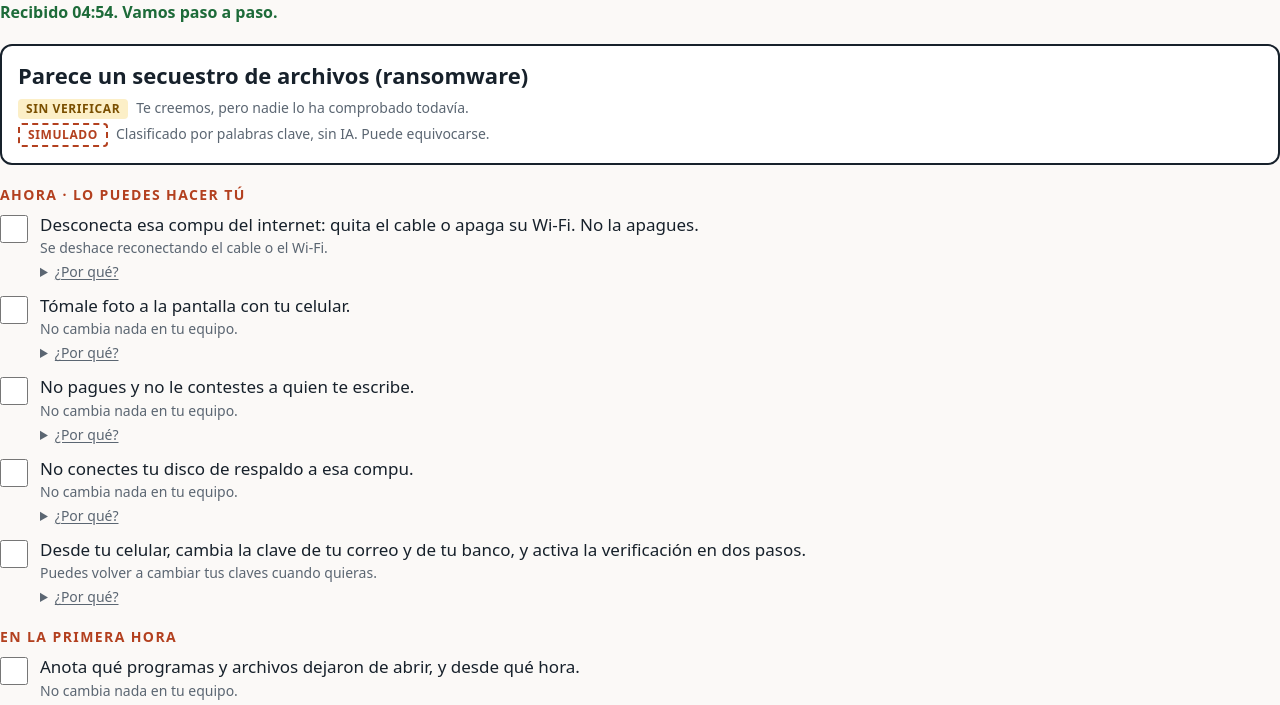
it: bitácora end to end › 'Borrar todo' empties storage and disables the download
Click the 1st checkbox at (14, 228), box [0,214,28,242]
(page scrolled)
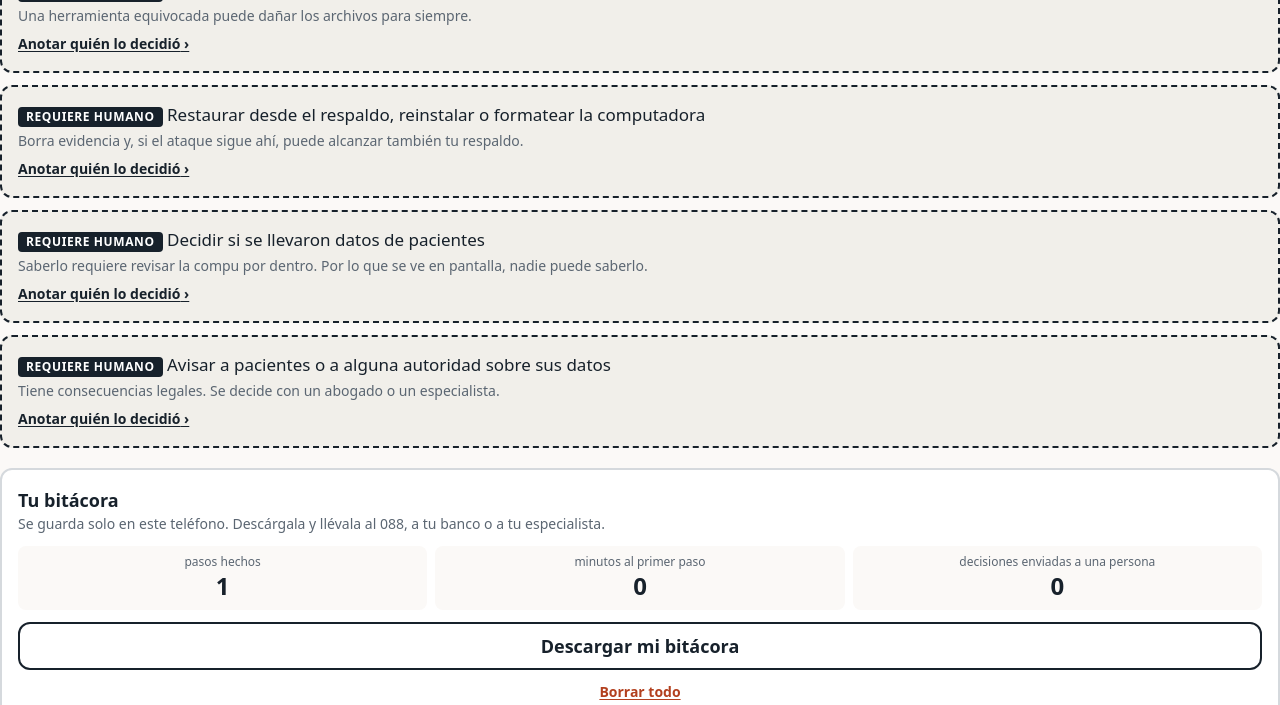
Click the button "Borrar todo" at (640, 692), box [599,682,681,702]
(page scrolled)
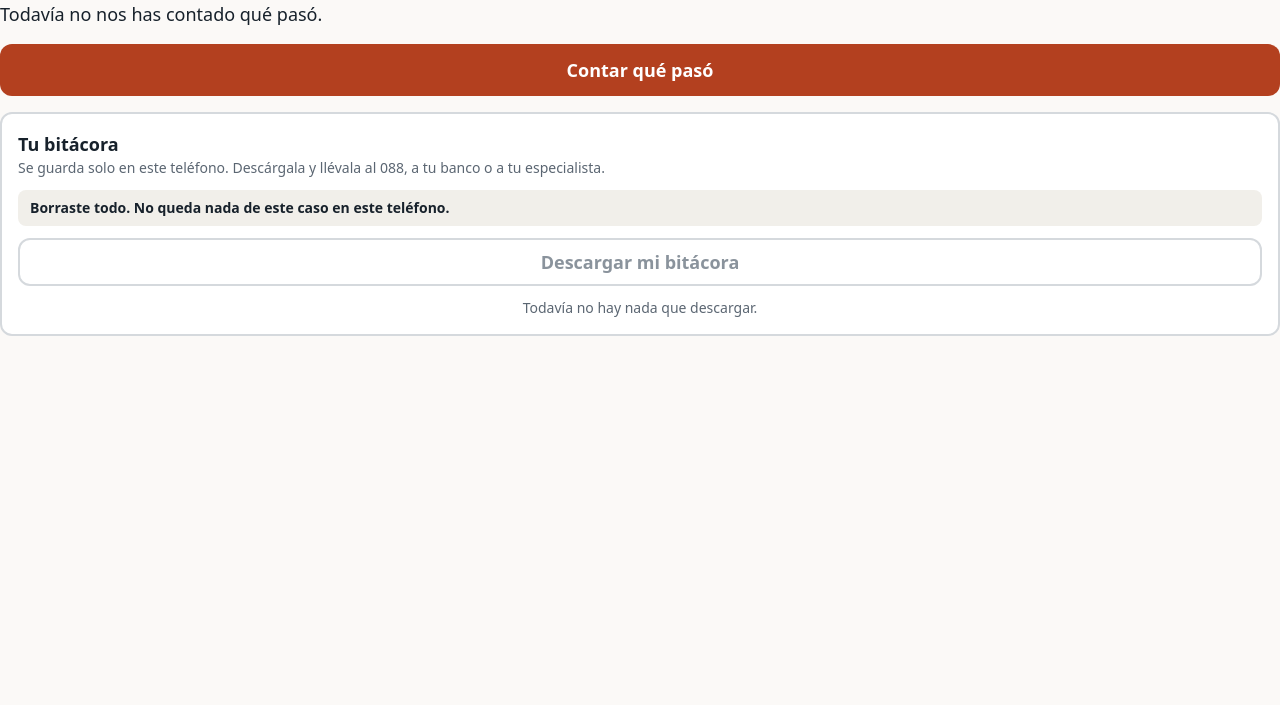
Check: the button "Descargar mi bitácora" is disabled, box [18,238,1262,286]
Check: the text "Borraste todo. No queda nada de este caso en este teléfono." is shown, box [18,190,1262,226]
